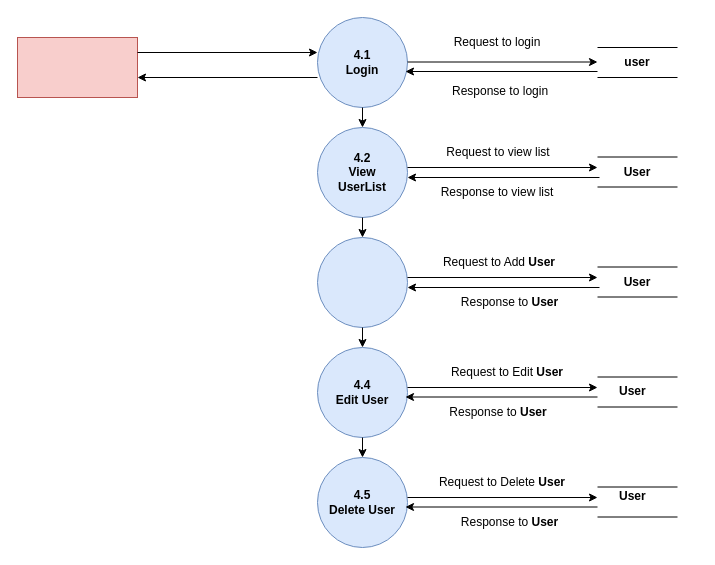
Some shapes in this 715 by 565 pixel diagram are drawn without their labels. The centre of each missing label's shape, as x and y in pixels:
4.3 Add User: (x=362, y=282)
Admin: (x=77, y=67)
